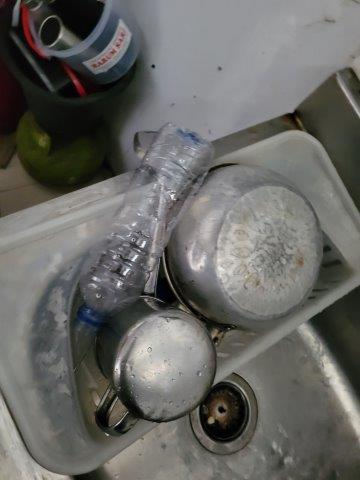botolplastik: (77, 126, 214, 335)
